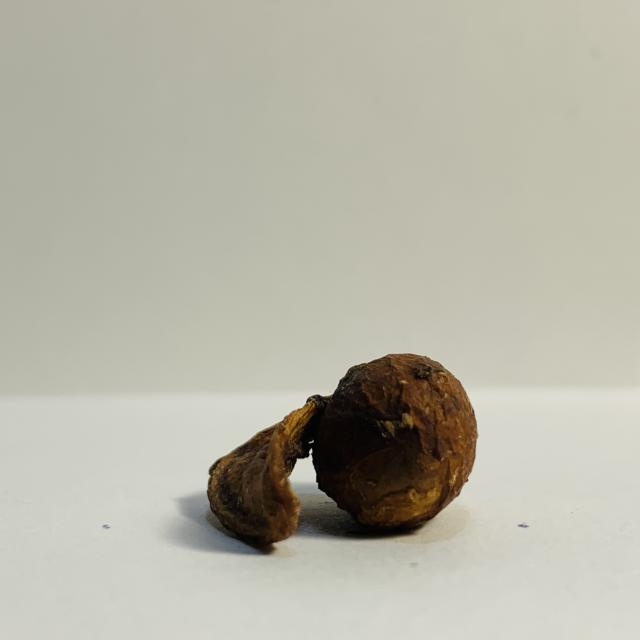Agglomerated_cocoabeans: (168, 299, 514, 594)
